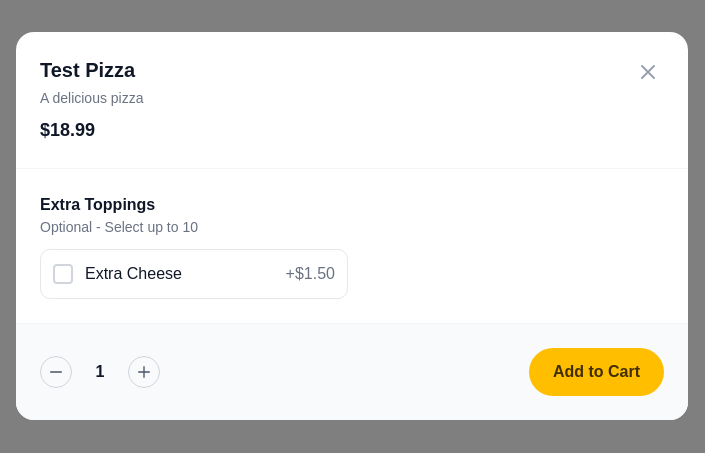
Test: ModifierModal › quantity selection › should not exceed maxQuantityPerModifier
The image size is (705, 453).
Note: Select the modifier
Click the text "Extra Cheese". click: coordinates (194, 274)
box: [40,249,348,299]
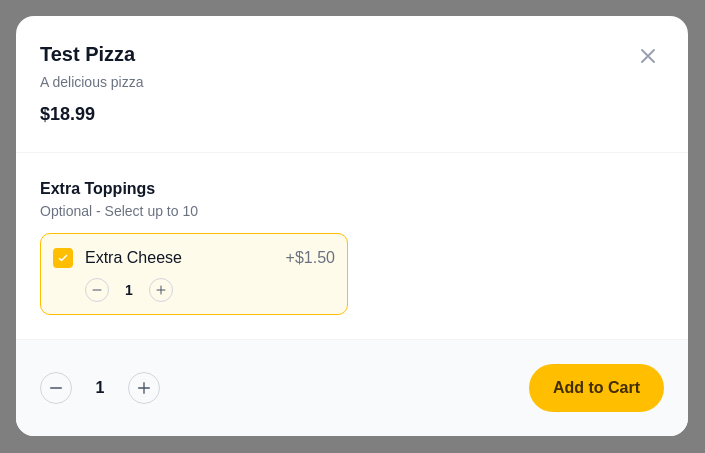
Note: Increase to max
Click the button named "Increase quantity" below "Extra Cheese". click: coordinates (161, 290)
box: [149,278,173,302]
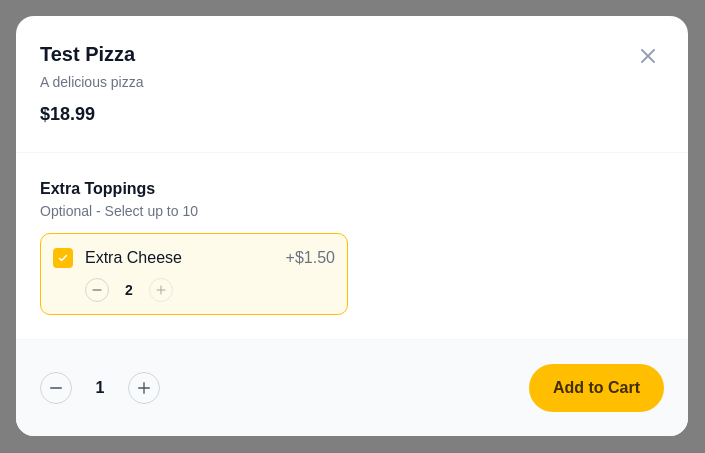
Expected: the text "2" is shown, [125,282,133,298]
Expected: the button named "Increase quantity" below "Extra Cheese" is disabled, [149,278,173,302]
